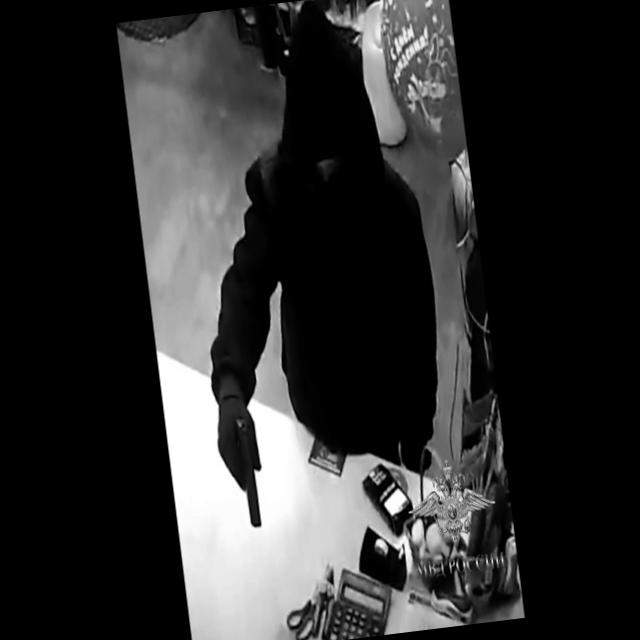gun: (212, 386, 270, 530)
person with a gun: (170, 28, 452, 530)
